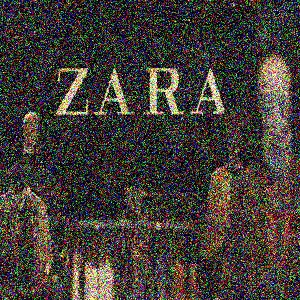zara: (201, 32, 255, 94)
